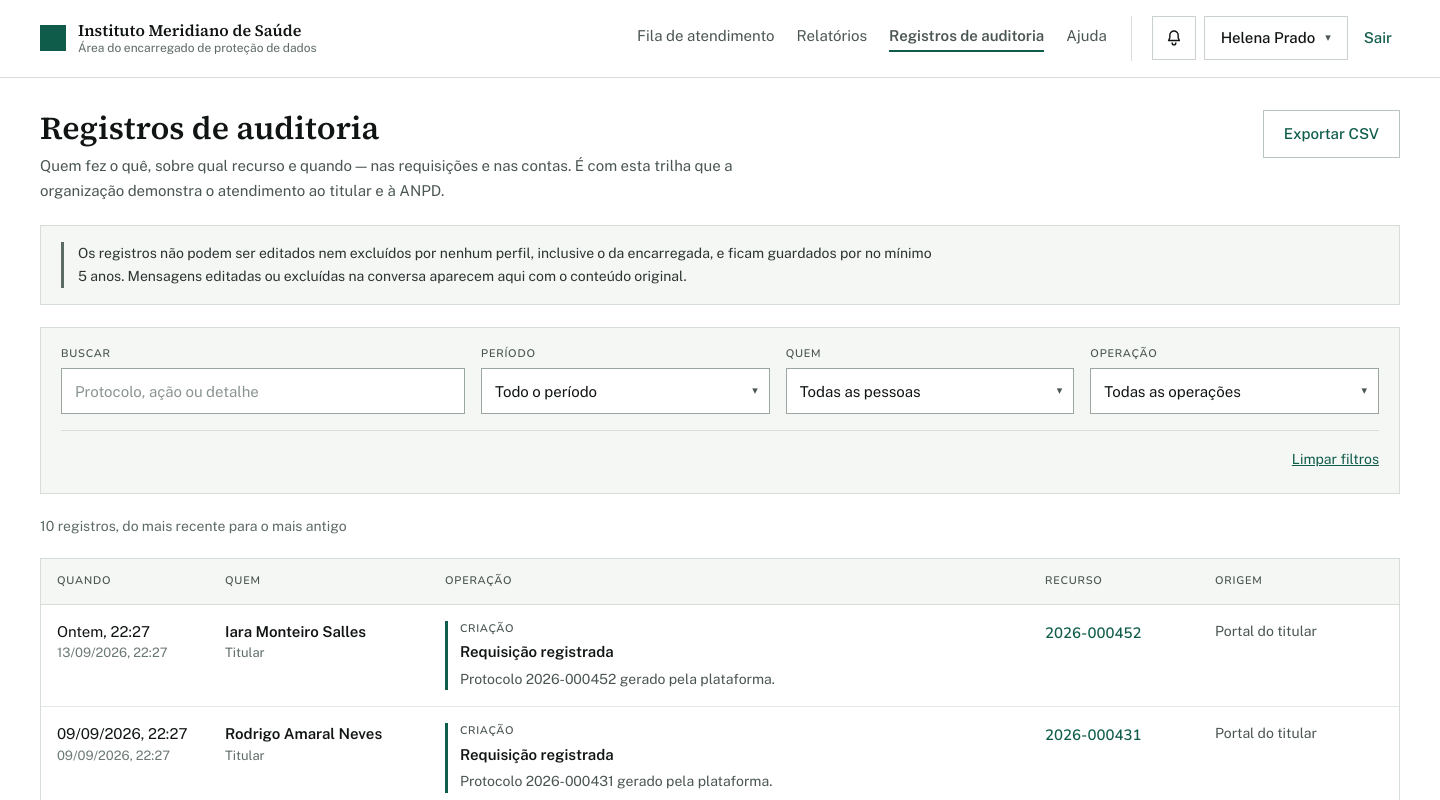
Registros de auditoria › registra a exportação na própria trilha
Click the button "Exportar CSV". click: (1332, 135)
box: [1263, 110, 1400, 159]
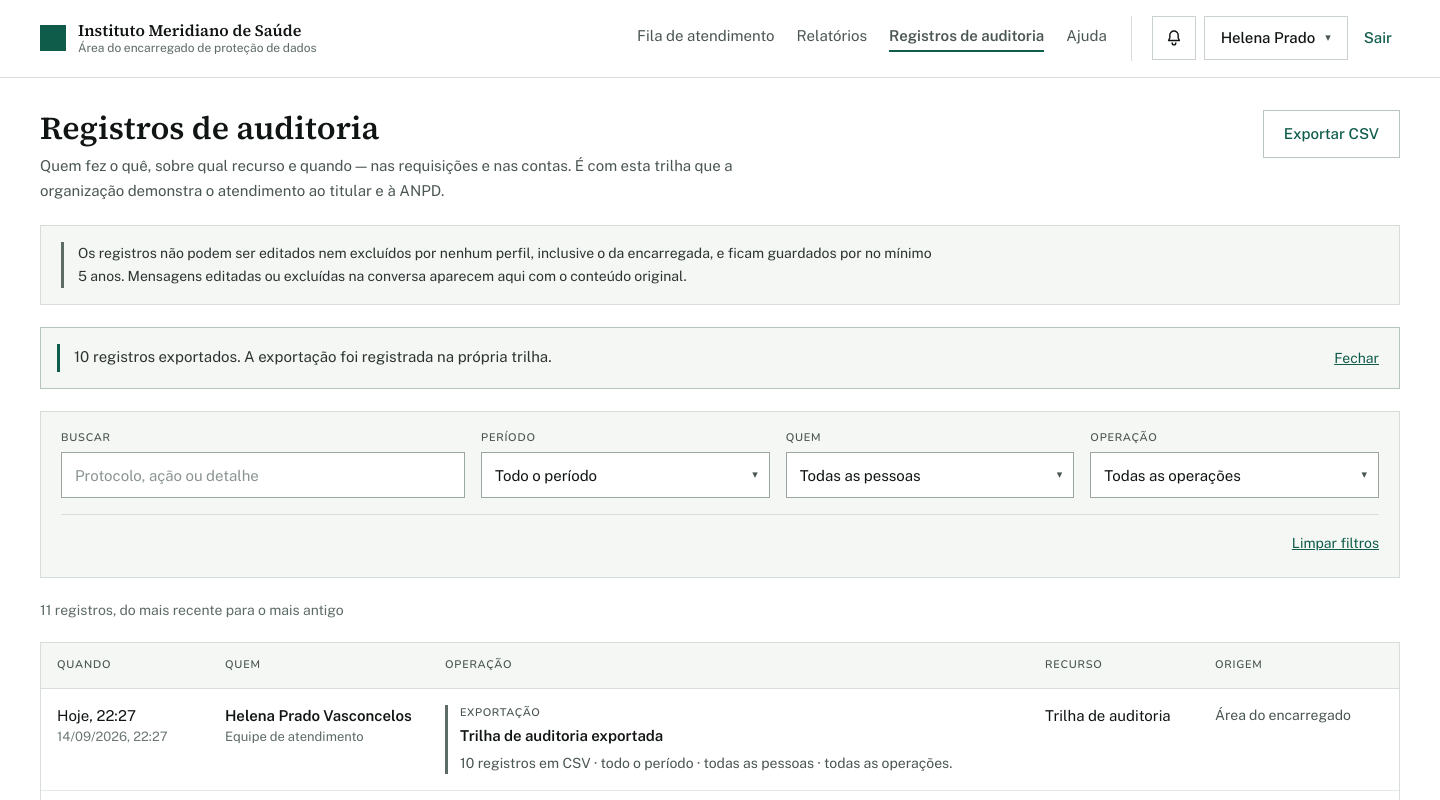
Expected: the text "A exportação foi registrada na própria trilha" is shown, [74, 348, 552, 365]
Expected: the row that starts with "Hoje, 22:27" shows "Trilha de auditoria exportada", [41, 689, 1399, 791]
